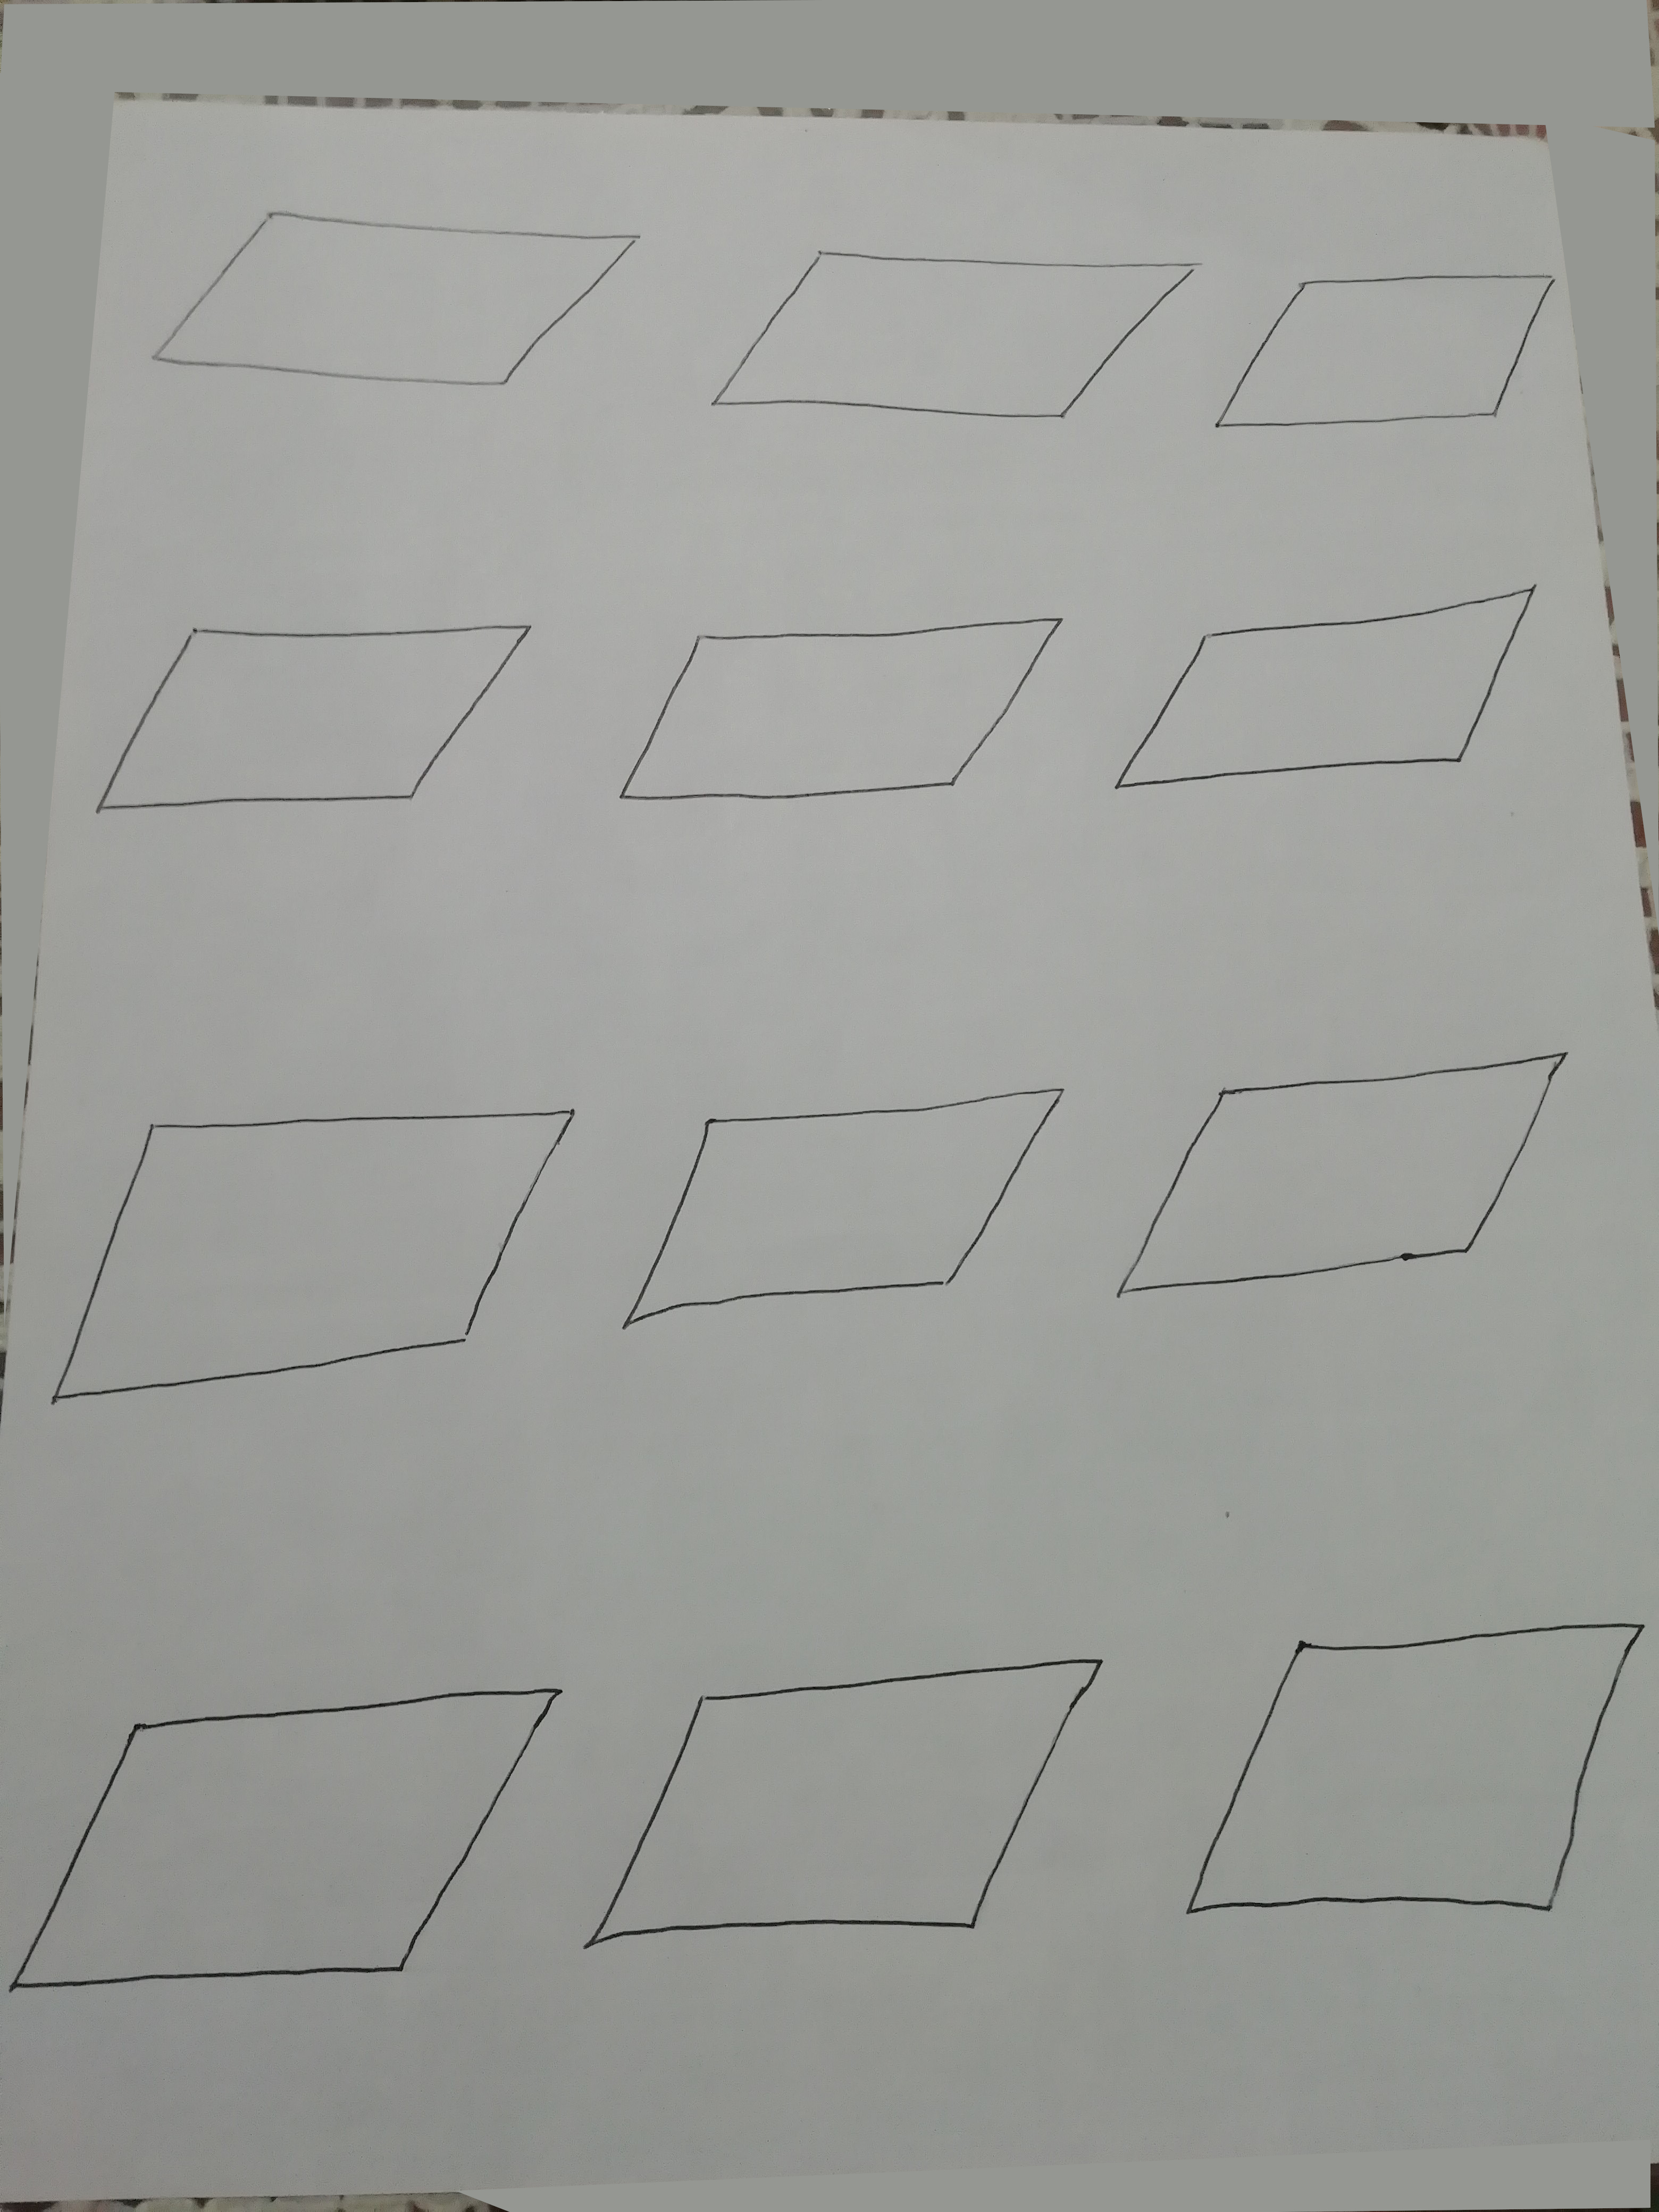scan: (582, 1613, 1122, 1993), (9, 1655, 568, 2010), (40, 1089, 591, 1435), (1161, 1592, 1657, 1952), (1103, 1031, 1593, 1346), (688, 199, 1209, 465), (615, 1066, 1091, 1346), (129, 181, 657, 428), (77, 596, 544, 850), (605, 585, 1075, 836), (1101, 571, 1565, 815), (1209, 244, 1558, 453)
